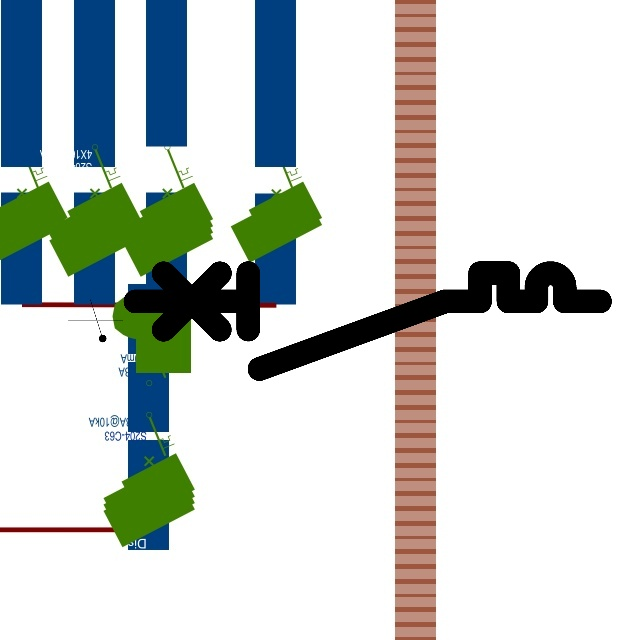interruptor_termomagnetico: (123, 261, 612, 380)
